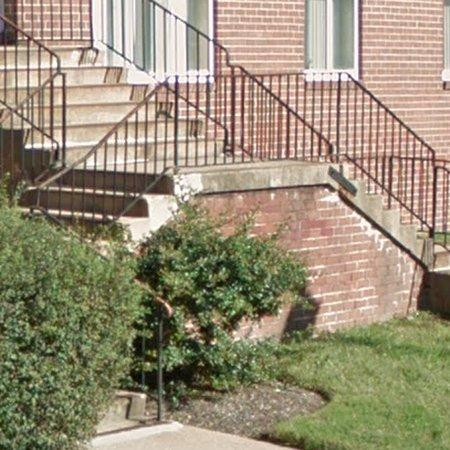stairs: (0, 17, 233, 176), (21, 145, 177, 242)
